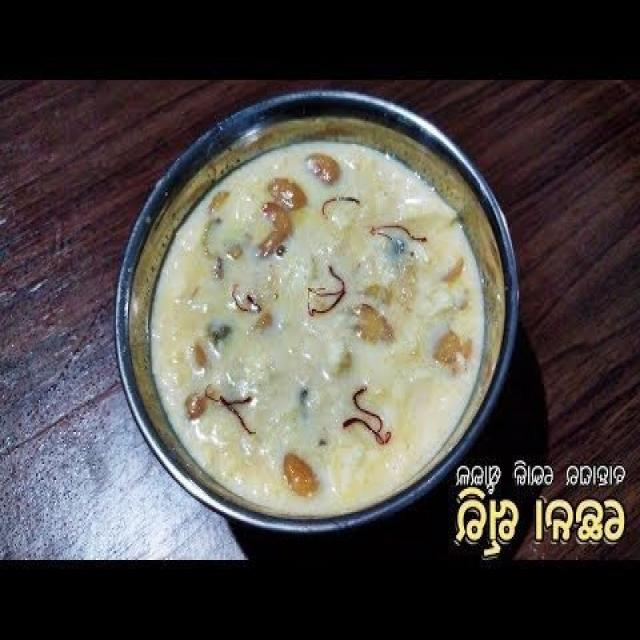Kheer: (148, 134, 484, 521)
